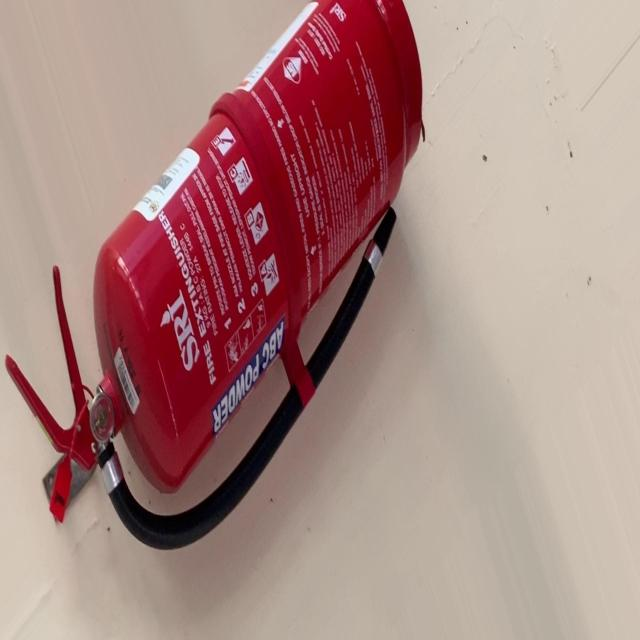fire_extinguisher: (0, 0, 427, 553)
